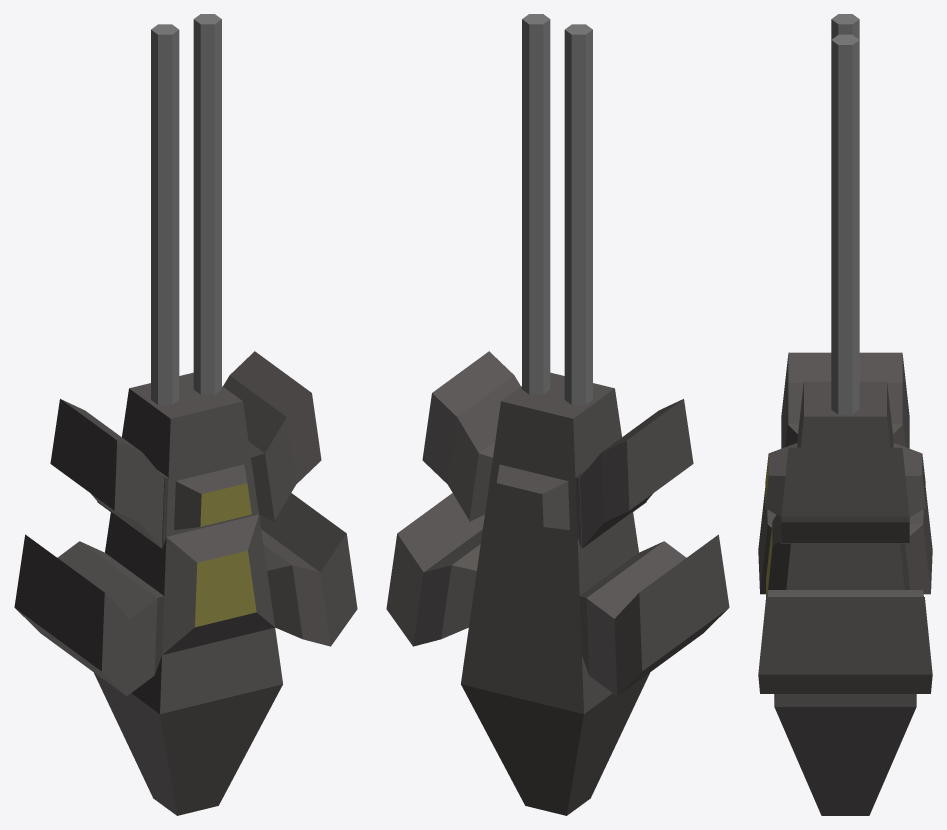
Rendered from new_arm.fbx.
3 views of the same model, side by side, from view 1: azimuth 30°, elevation 25°; view 2: azimuth 150°, elevation 25°; view 3: azimuth 270°, elevation 25° (orthographic).
Visible parts, largest first — view 1: Cube, Cylinder.000, Cylinder.001; view 2: Cube, Cylinder.000, Cylinder.001; view 3: Cube, Cylinder.001, Cylinder.000.
Boxes of the visible parts, x1,y1,x2,y2 form: Cube: (14, 351, 357, 815); Cylinder.000: (151, 24, 179, 404); Cylinder.001: (193, 14, 221, 394); Cube: (386, 351, 729, 815); Cylinder.000: (564, 24, 592, 404); Cylinder.001: (522, 14, 550, 394); Cube: (758, 352, 932, 815); Cylinder.001: (831, 34, 859, 414); Cylinder.000: (831, 14, 859, 39).
Size of the model in its own units: 415 by 1206 by 245.
